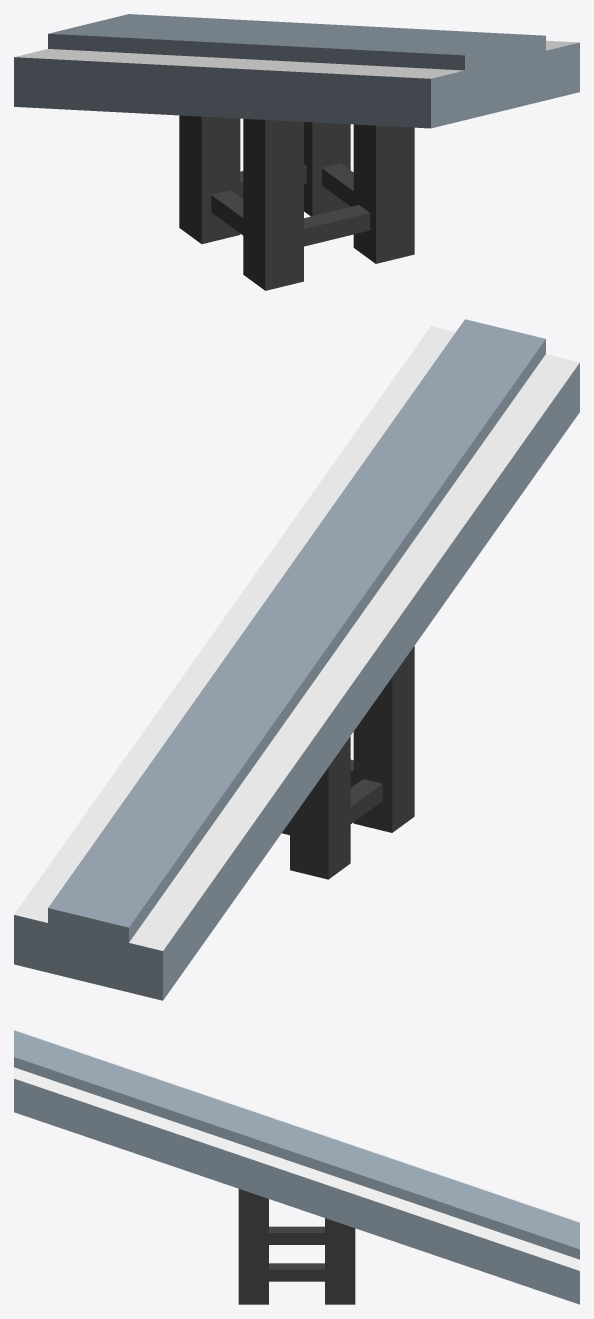
The model's file is monorailTrack_slope_exclusive.fbx.
3 renders of one model, top to bottom at view 1: azimuth 30°, elevation 25°; view 2: azimuth 150°, elevation 25°; view 3: azimuth 270°, elevation 25°, orthographic. The views are drawn at different scales.
Visible parts, largest first — view 1: monorailTrack_slope_exclusive; view 2: monorailTrack_slope_exclusive; view 3: monorailTrack_slope_exclusive.
Boxes of the visible parts, left/top/right/bottom form: monorailTrack_slope_exclusive: left=14, top=14, right=579, bottom=290; monorailTrack_slope_exclusive: left=14, top=319, right=579, bottom=1000; monorailTrack_slope_exclusive: left=14, top=1029, right=579, bottom=1304.
Size of the model in its own units: 2.06 by 4.61 by 10.
